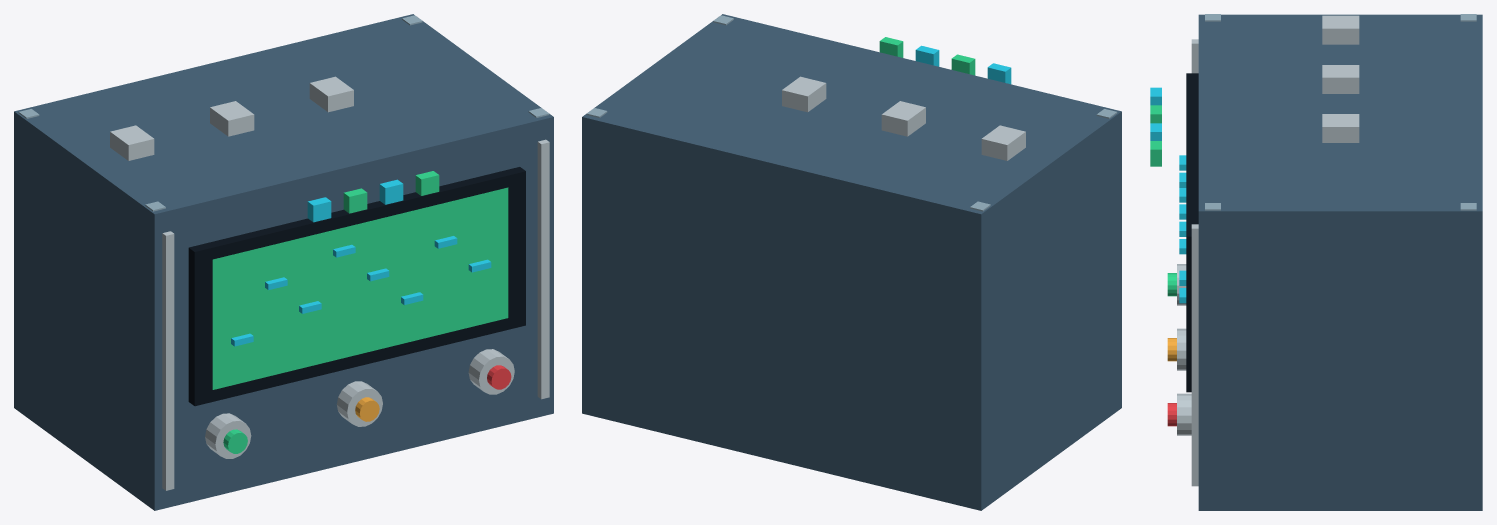
Rendered from 24_L79_ChuckReleaseConditionMonitor.fbx.
3 views of the same model, side by side, from view 1: azimuth 30°, elevation 25°; view 2: azimuth 150°, elevation 25°; view 3: azimuth 270°, elevation 25° (orthographic).
Visible parts, largest first — view 1: ChuckReleaseConditionMonitor; view 2: ChuckReleaseConditionMonitor; view 3: ChuckReleaseConditionMonitor.
Part boxes in pixels (box(x1,y1,x2,y2)): ChuckReleaseConditionMonitor: box(14, 14, 553, 510); ChuckReleaseConditionMonitor: box(582, 14, 1121, 510); ChuckReleaseConditionMonitor: box(1150, 14, 1482, 510).
Bounding box in the file's own units: 100 × 74.82 × 71.44.
